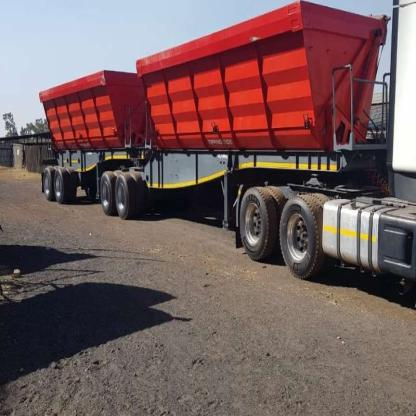dump_truck: (36, 3, 416, 322)
